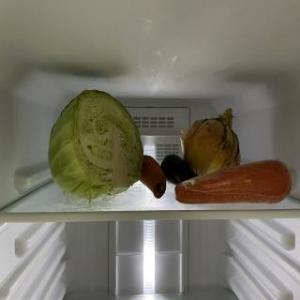cabbage: (48, 91, 144, 202)
carrot: (174, 158, 292, 206), (140, 154, 168, 198)
eggplant: (162, 152, 198, 189)
onion: (181, 110, 245, 176)
